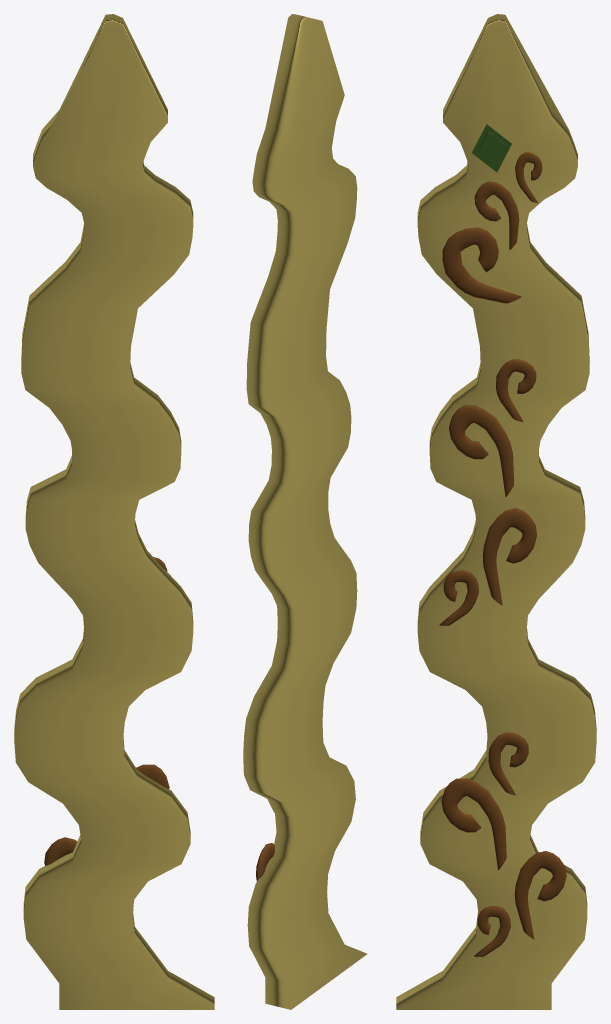
The model's file is Keris_Updated.fbx.
The picture shows the model from 3 angles, left to right: view 1: azimuth 90°, elevation 25°; view 2: azimuth 150°, elevation 25°; view 3: azimuth 270°, elevation 25°; orthographic projection.
Parts seen in each view (by area): view 1: Cube.004; view 2: Cube.004; view 3: Cube.004.
Part boxes in pixels (x1=…): Cube.004: x1=14, y1=14, x2=214, y2=1009; Cube.004: x1=243, y1=14, x2=367, y2=1009; Cube.004: x1=396, y1=14, x2=596, y2=1009.
Size of the model in its own units: 23.61 by 679 by 125.
